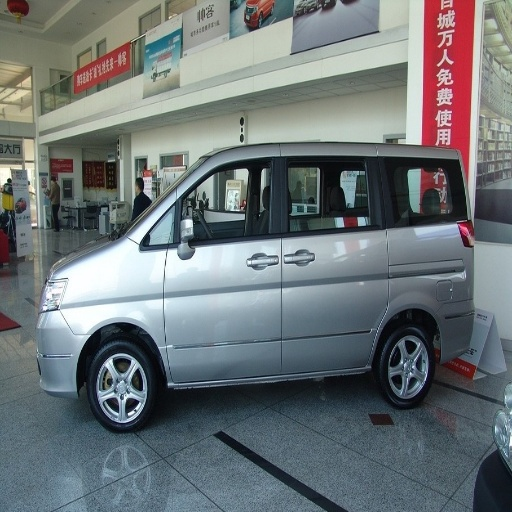front_left_door: (143, 149, 283, 381)
trunk: (363, 241, 472, 356)
